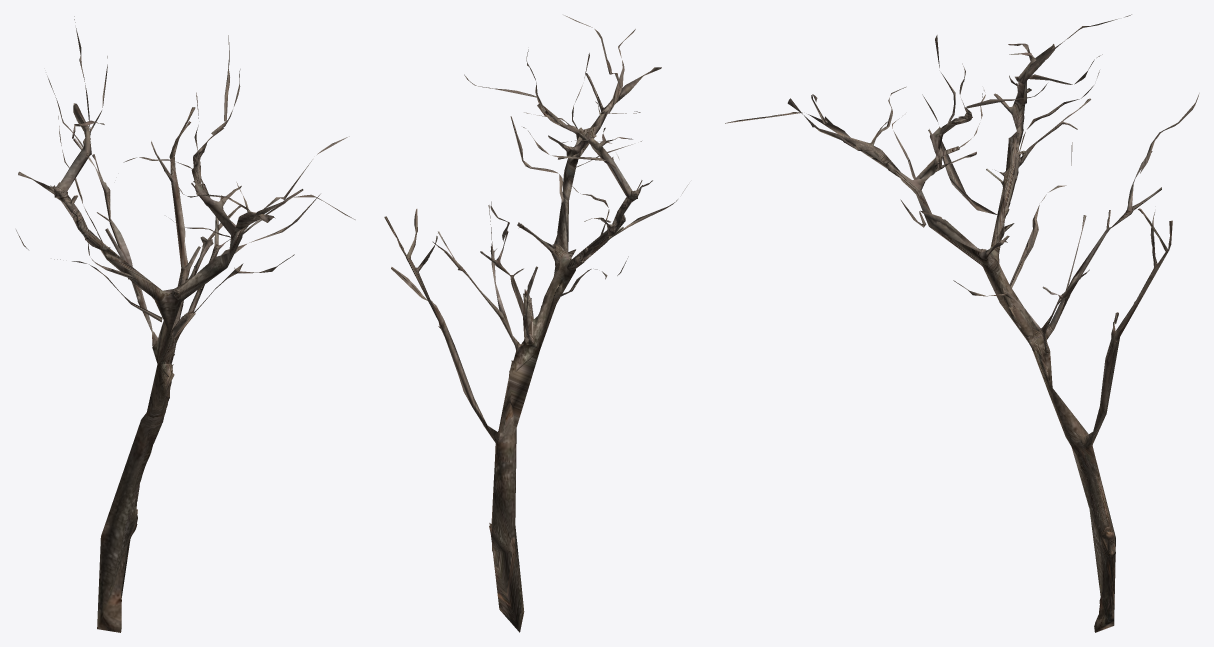
The model's file is arbolpeq_L1_madera.glb.
3 renders of one model, left to right at view 1: azimuth 30°, elevation 25°; view 2: azimuth 150°, elevation 25°; view 3: azimuth 270°, elevation 25°, orthographic. The views are drawn at different scales.
Visible parts, largest first — view 1: tree_small_02_LOD0; view 2: tree_small_02_LOD0; view 3: tree_small_02_LOD0.
Boxes of the visible parts, x1,y1,x2,y2 form: tree_small_02_LOD0: (16,16,355,632); tree_small_02_LOD0: (384,15,688,632); tree_small_02_LOD0: (725,14,1199,632).
Size of the model in its own units: 1.73 by 4.01 by 2.85.
Materials: 2 (2 with a texture image).
